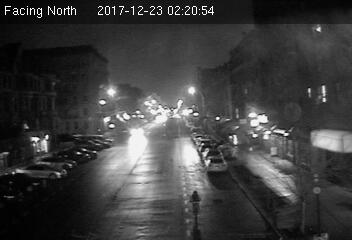bicycle: (188, 188, 203, 225)
car: (205, 155, 228, 173)
